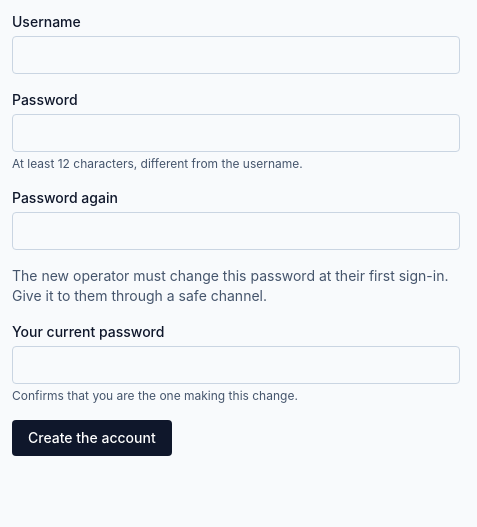
Test: CreateOperatorForm › checks the passwords in the browser first
The width and height of the screenshot is (477, 527).
Step 1. Type "bob" into the field labelled "Username" → (236, 55), box [12,36,460,74]
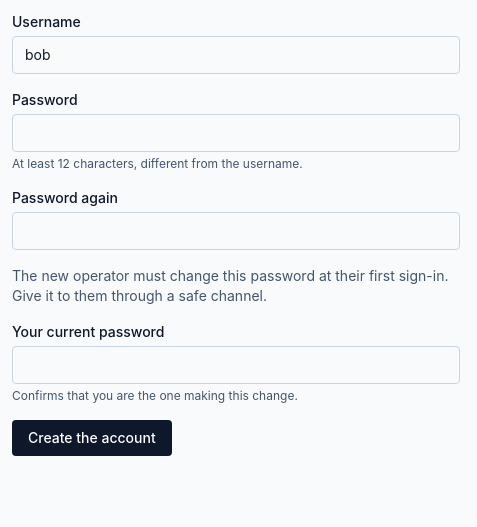
Step 2. Type "correct horse battery" into the password field labelled "Password" → (236, 133), box [12,114,460,152]
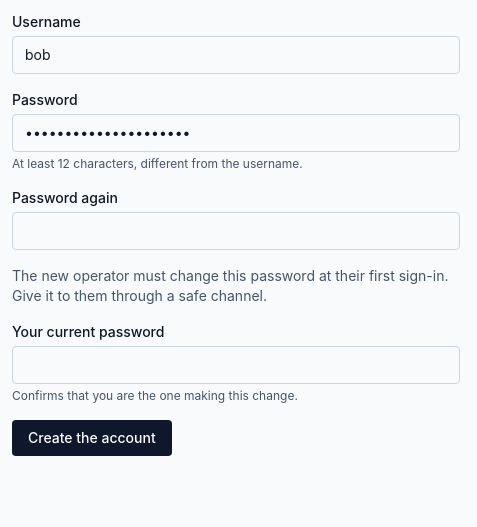
Step 3. Type "correct horse battery" into the password field labelled "Password again" → (236, 231), box [12,212,460,250]
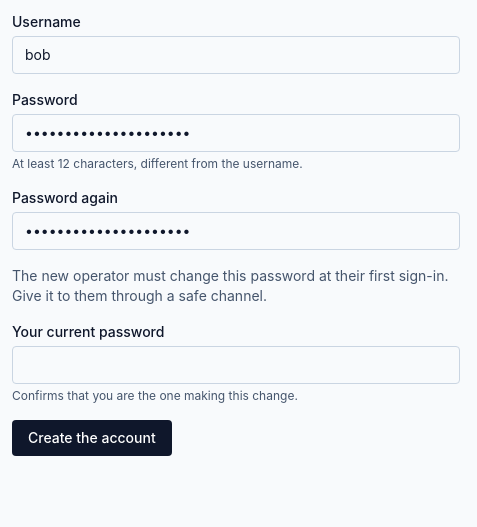
Step 4. Type "my current password" into the password field labelled "Your current password" → (236, 365), box [12,346,460,384]
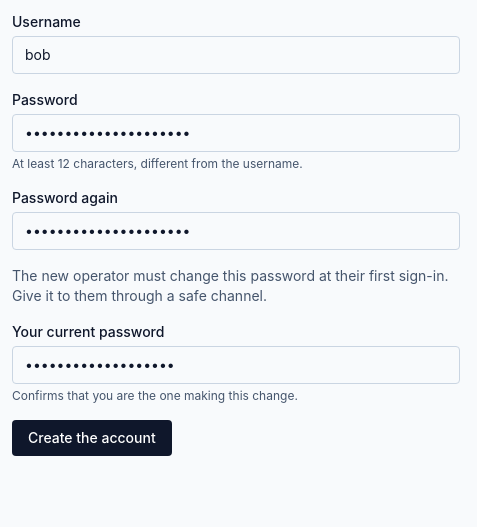
Step 5. Type "something else entirely" into the password field labelled "Password again" → (236, 231), box [12,212,460,250]
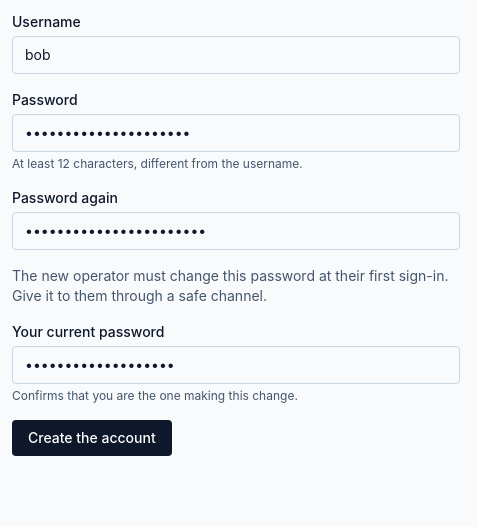
Step 6. Click the button "Create the account" → (92, 438), box [12,420,172,456]
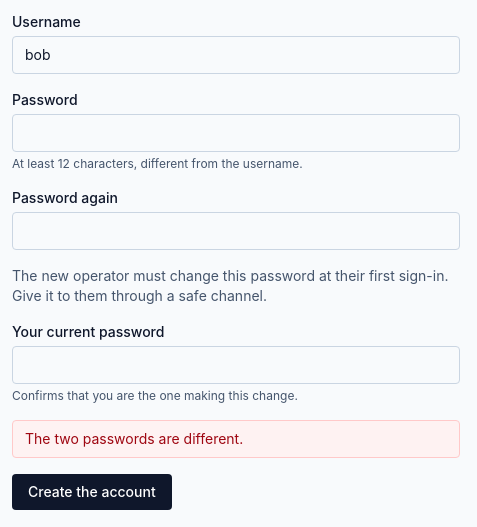
Expected: the message reads "The two passwords are different.", [25,430,243,447]
